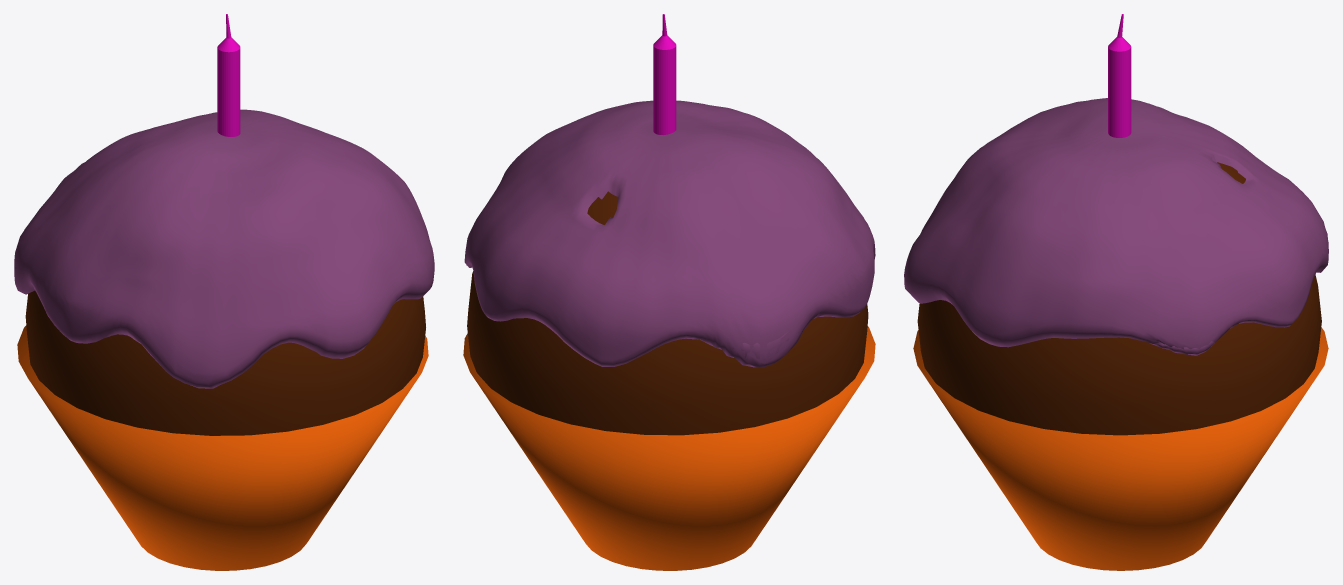
The model's file is muffin.glb.
The picture shows the model from 3 angles, left to right: view 1: azimuth 30°, elevation 25°; view 2: azimuth 150°, elevation 25°; view 3: azimuth 270°, elevation 25°; orthographic projection.
Parts seen in each view (by area): view 1: Glass, Cylinder, Sphere, Cylinder.001; view 2: Glass, Cylinder, Sphere, Cylinder.001; view 3: Glass, Cylinder, Sphere, Cylinder.001.
Part boxes in pixels (<box>): Glass: <box>14,109,434,388</box>; Cylinder: <box>17,325,428,570</box>; Sphere: <box>25,290,425,435</box>; Cylinder.001: <box>217,14,240,136</box>; Glass: <box>464,100,875,367</box>; Cylinder: <box>463,326,875,570</box>; Sphere: <box>467,191,868,435</box>; Cylinder.001: <box>653,14,676,134</box>; Glass: <box>904,98,1328,355</box>; Cylinder: <box>913,327,1328,570</box>; Sphere: <box>917,162,1321,435</box>; Cylinder.001: <box>1108,14,1131,137</box>.
Bounding box in the file's own units: 1.44 × 2 × 1.47.
